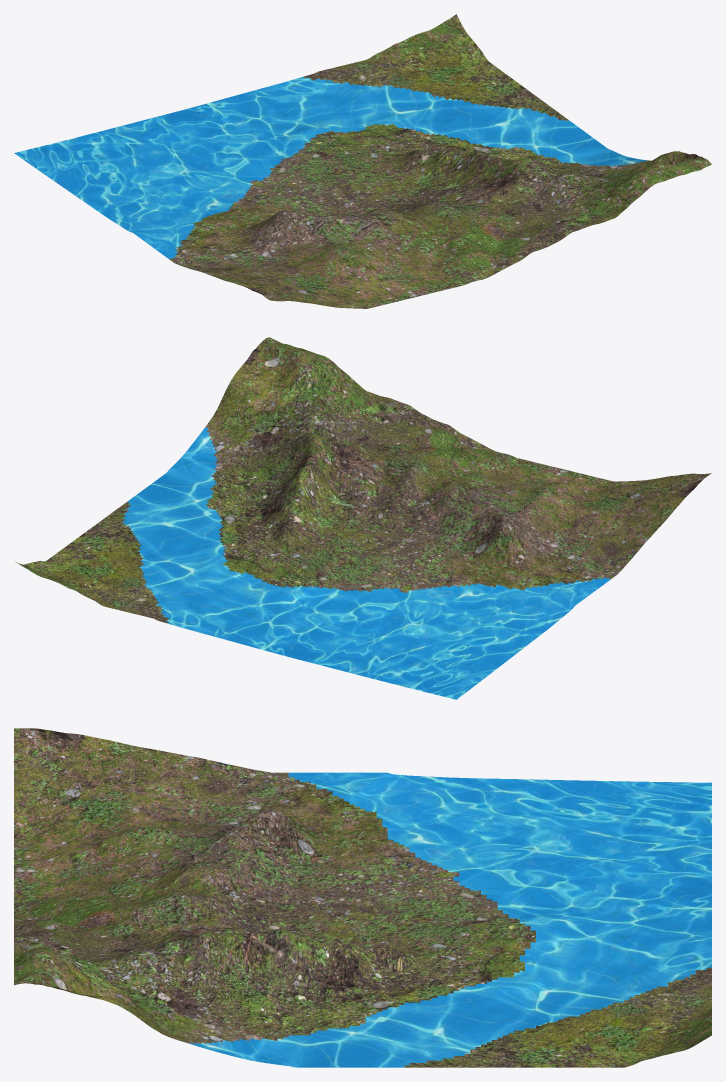
The model's file is terrain.glb.
3 views of the same model, one above another, from view 1: azimuth 30°, elevation 25°; view 2: azimuth 150°, elevation 25°; view 3: azimuth 270°, elevation 25° (orthographic). The views are drawn at different scales.
Parts seen in each view (by area): view 1: 地形; view 2: 地形; view 3: 地形.
Part boxes in pixels (x1,y1,x2,y2): 地形: (14,14,711,308); 地形: (15,337,711,699); 地形: (14,728,711,1067).
Bounding box in the file's own units: 1270 × 193 × 1270.
Materials: 2 (2 with a texture image).
